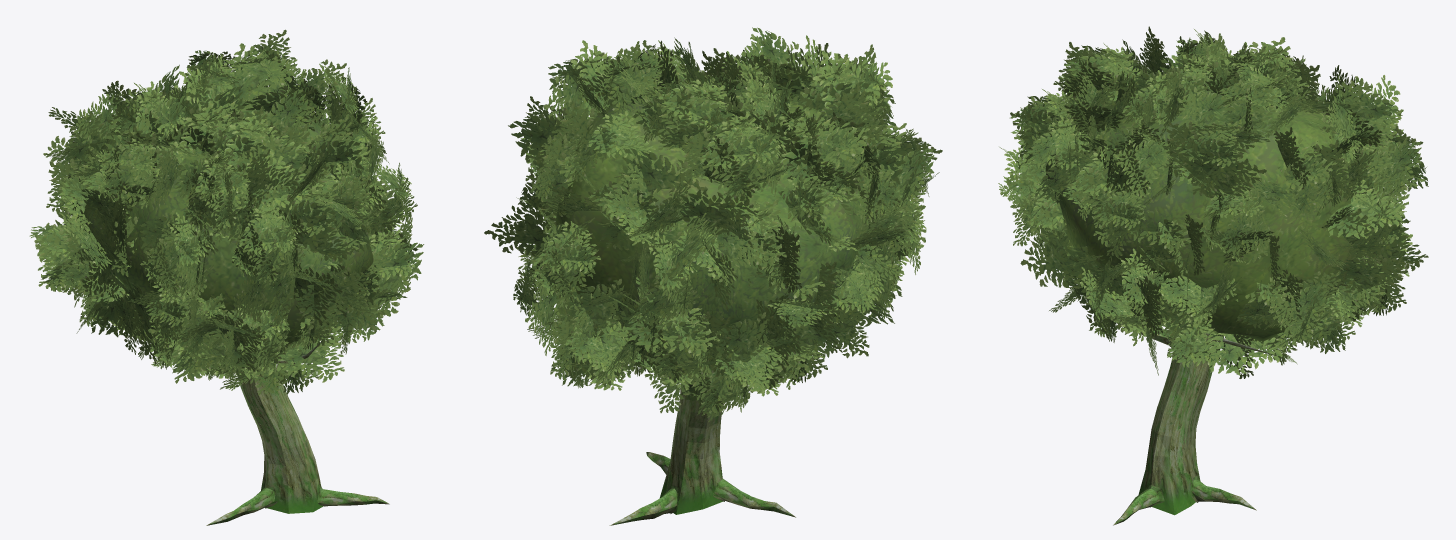
The model's file is tree_test.fbx.
3 views of the same model, side by side, from view 1: azimuth 30°, elevation 25°; view 2: azimuth 150°, elevation 25°; view 3: azimuth 270°, elevation 25° (orthographic). The views are drawn at different scales.
Visible parts, largest first — view 1: polySurface46020, pCube196, polySurface45459; view 2: polySurface46020, pCube196, polySurface45459; view 3: polySurface46020, pCube196, polySurface45459.
Boxes of the visible parts, x1=… form: polySurface46020: x1=29, y1=29, x2=424, y2=395; pCube196: x1=75, y1=85, x2=373, y2=351; polySurface45459: x1=206, y1=340, x2=389, y2=525; polySurface46020: x1=484, y1=27, x2=942, y2=422; pCube196: x1=555, y1=95, x2=892, y2=363; polySurface45459: x1=526, y1=303, x2=795, y2=525; polySurface46020: x1=998, y1=26, x2=1428, y2=378; pCube196: x1=1043, y1=79, x2=1373, y2=345; polySurface45459: x1=1057, y1=271, x2=1275, y2=525.
Size of the model in its own units: 104 by 120 by 112.
